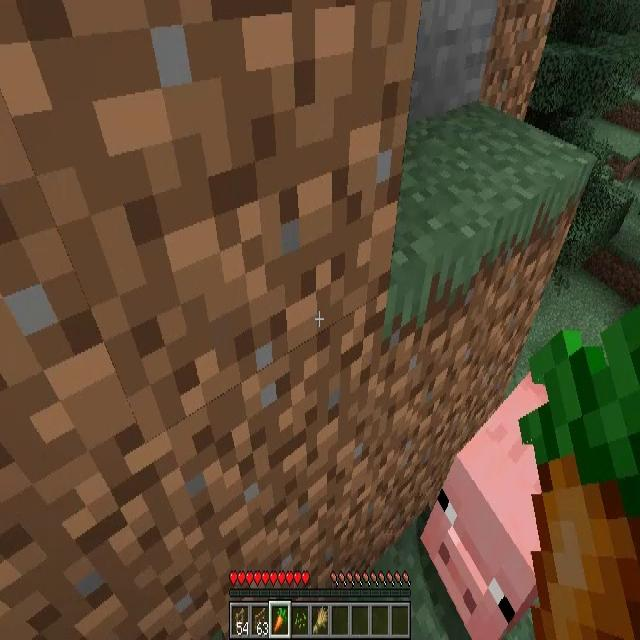pig: (422, 364, 537, 640)
